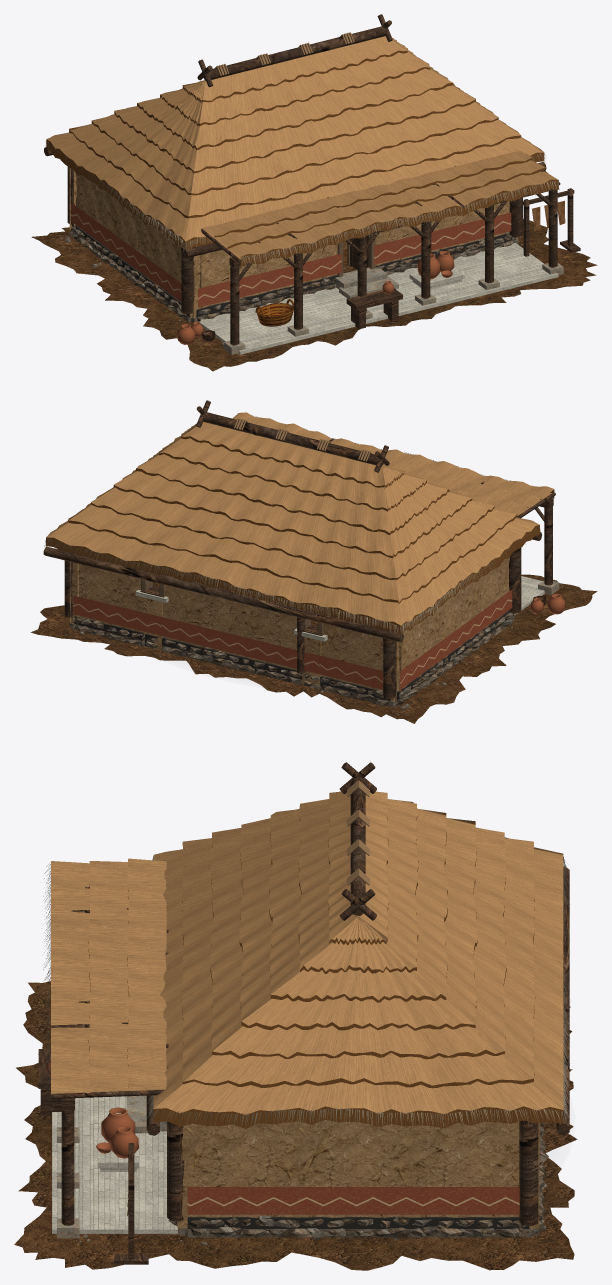
Rendered from scriptorium.glb.
3 views of the same model, one above another, from view 1: azimuth 30°, elevation 25°; view 2: azimuth 150°, elevation 25°; view 3: azimuth 270°, elevation 25° (orthographic). The views are drawn at different scales.
Visible parts, largest first — view 1: part_16, part_17, part_8, part_1, part_7, part_5, part_22, part_4, part_19, part_20, part_21, part_11 (+1 smaller); view 2: part_16, part_5, part_17, part_8, part_1, part_22, part_4, part_19, part_21, part_7, part_11, part_18; view 3: part_16, part_5, part_1, part_8, part_17, part_7, part_22, part_4, part_19, part_21, part_11, part_20 (+1 smaller).
Boxes of the visible parts, left/top/right/bottom form: part_16: left=46, top=36, right=558, bottom=259; part_17: left=46, top=49, right=558, bottom=265; part_8: left=44, top=14, right=580, bottom=345; part_1: left=31, top=218, right=597, bottom=371; part_7: left=197, top=243, right=558, bottom=354; part_5: left=69, top=168, right=520, bottom=318; part_22: left=70, top=202, right=511, bottom=307; part_4: left=68, top=225, right=518, bottom=322; part_19: left=45, top=142, right=559, bottom=266; part_20: left=224, top=263, right=563, bottom=354; part_21: left=72, top=224, right=515, bottom=319; part_11: left=177, top=251, right=454, bottom=344; part_16: left=46, top=412, right=553, bottom=625; part_5: left=69, top=557, right=516, bottom=701; part_17: left=46, top=434, right=554, bottom=633; part_8: left=43, top=400, right=555, bottom=698; part_1: left=30, top=574, right=597, bottom=723; part_22: left=73, top=589, right=512, bottom=689; part_4: left=70, top=612, right=514, bottom=707; part_19: left=44, top=416, right=540, bottom=638; part_21: left=74, top=610, right=513, bottom=704; part_7: left=135, top=576, right=544, bottom=641; part_11: left=530, top=593, right=565, bottom=614; part_18: left=234, top=418, right=372, bottom=461; part_16: left=51, top=791, right=563, bottom=1114; part_5: left=177, top=1083, right=540, bottom=1228; part_1: left=14, top=981, right=577, bottom=1270; part_8: left=38, top=762, right=569, bottom=1264; part_17: left=88, top=813, right=563, bottom=1128; part_7: left=52, top=1096, right=177, bottom=1233; part_22: left=187, top=1187, right=519, bottom=1214; part_4: left=168, top=1122, right=548, bottom=1240; part_19: left=41, top=856, right=570, bottom=1130; part_21: left=187, top=1217, right=529, bottom=1228; part_11: left=46, top=1059, right=138, bottom=1158; part_20: left=57, top=1095, right=166, bottom=1238.
Size of the model in its own units: 7.28 by 3.49 by 6.11.
23 materials, 17 textured.
